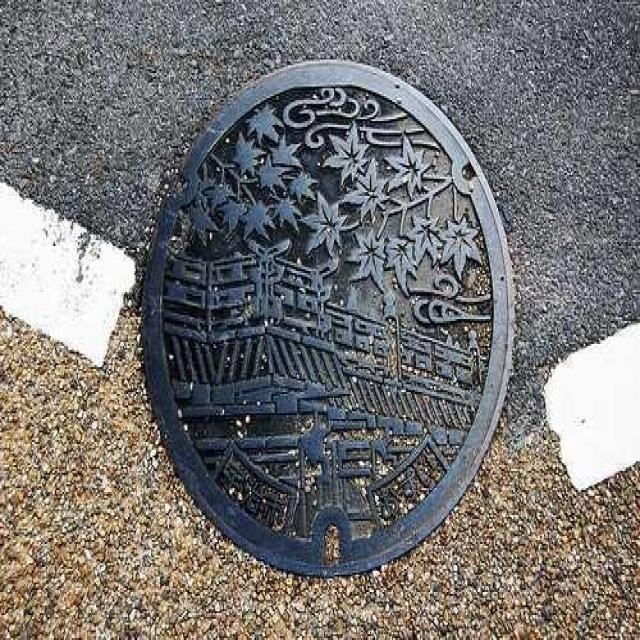manhole: (142, 62, 515, 578)
